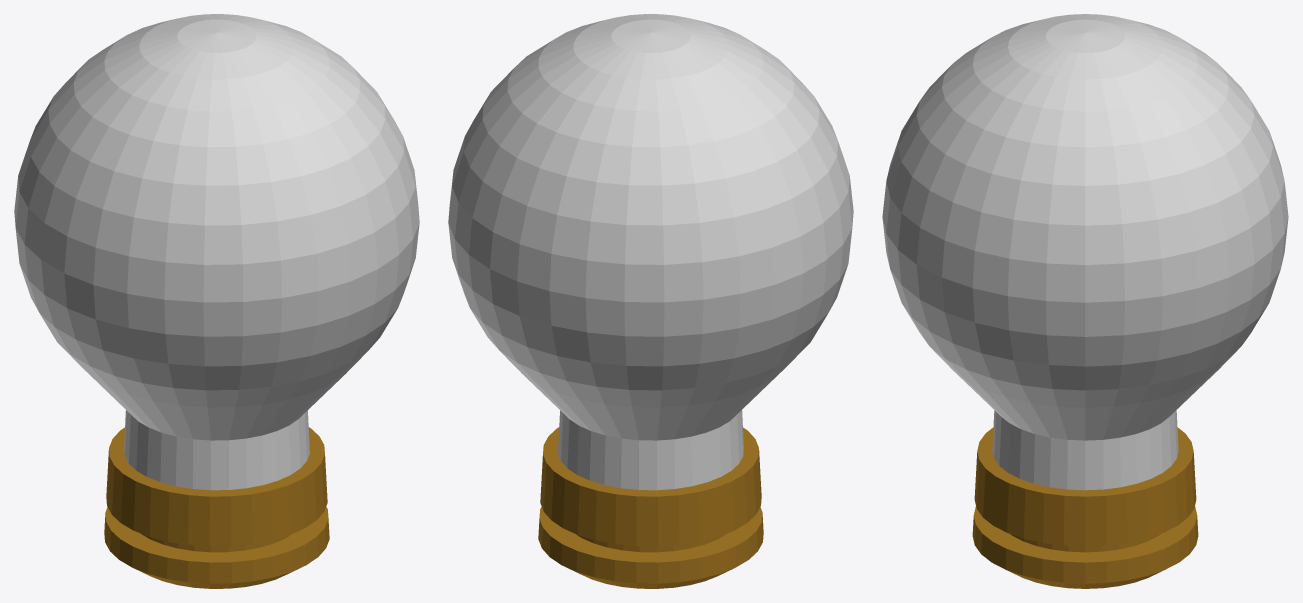
File: Egg_Ramp.fbx
3 renders of one model, left to right at view 1: azimuth 30°, elevation 25°; view 2: azimuth 150°, elevation 25°; view 3: azimuth 270°, elevation 25°, orthographic.
Visible parts, largest first — view 1: Sphere; view 2: Sphere; view 3: Sphere.
Boxes of the visible parts, x1,y1,x2,y2 form: Sphere: (14,14,419,588); Sphere: (448,14,853,588); Sphere: (882,14,1288,588).
Bounding box in the file's own units: 200 × 293 × 200.
